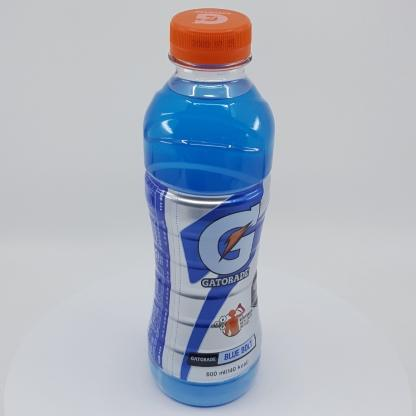----------600ML: (143, 8, 275, 406)
